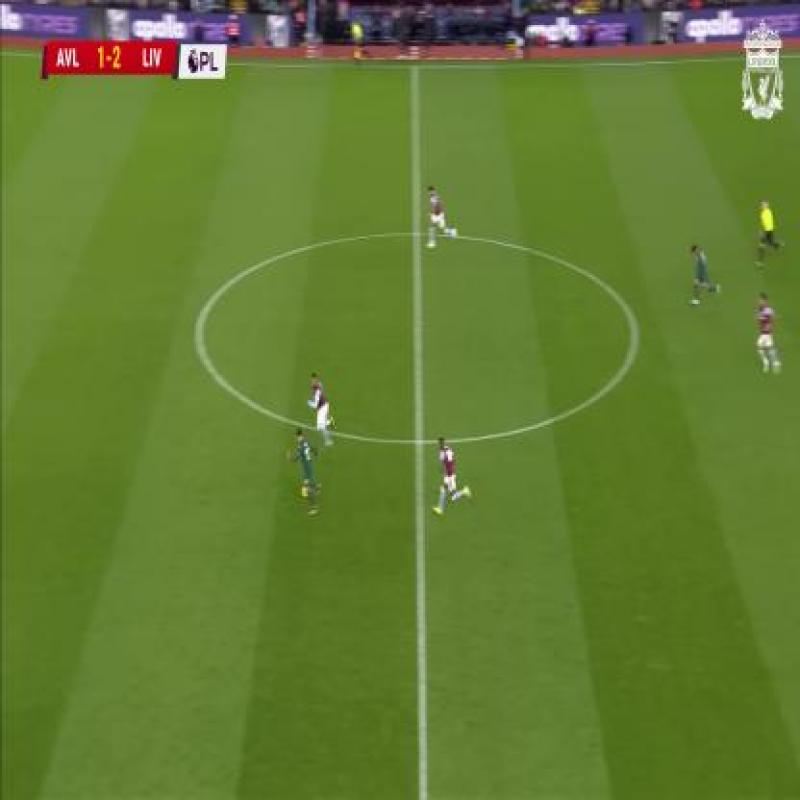13: (400, 39, 432, 98)
14: (398, 216, 435, 254)
15: (400, 406, 437, 475)
c: (614, 310, 662, 356), (179, 315, 219, 356)
